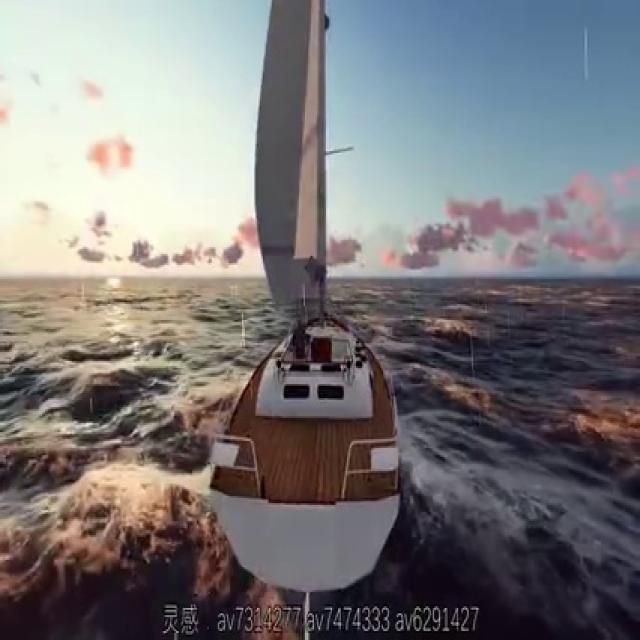sailboat: (203, 0, 408, 586)
